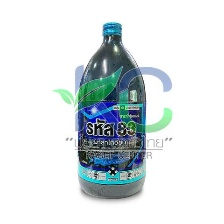insecticide: (70, 22, 149, 200)
